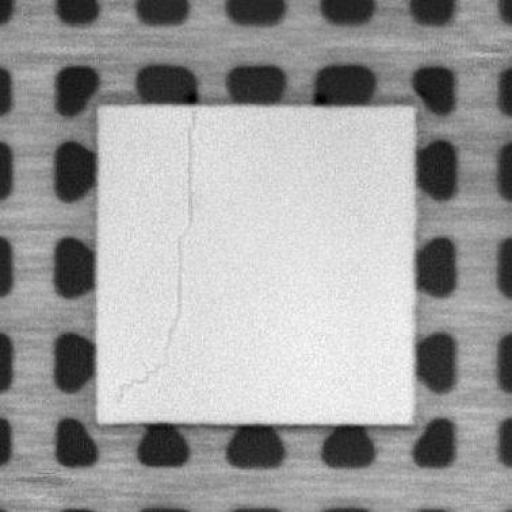DIE_CRACK: (114, 110, 196, 402)
